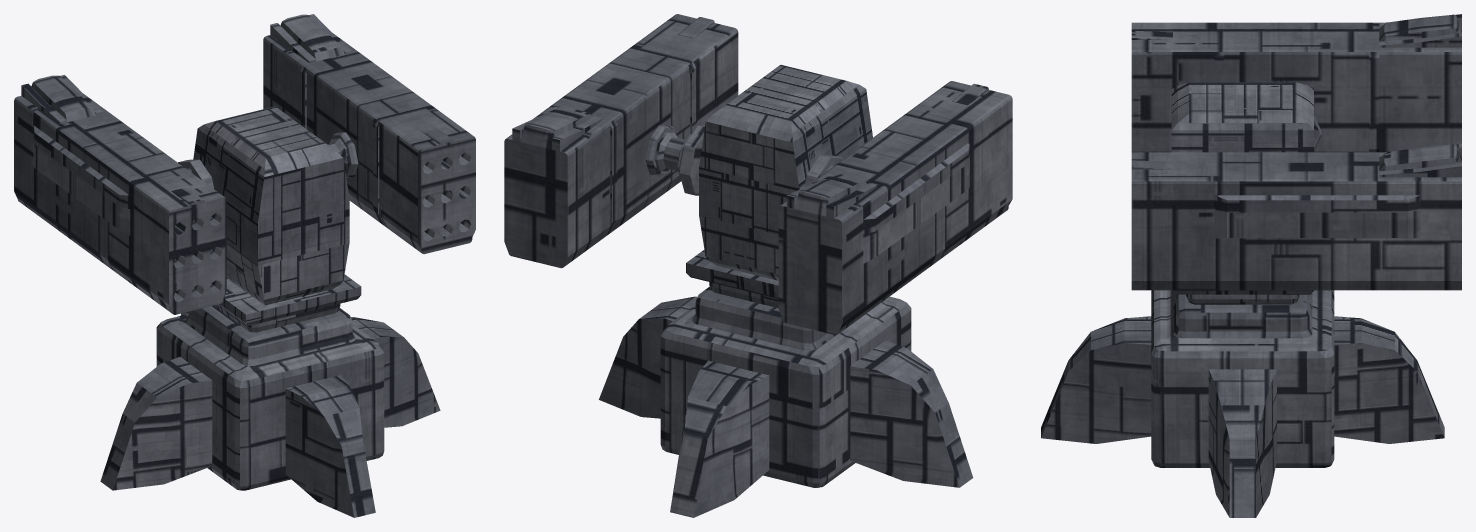
File: Turret_01.fbx
3 renders of one model, left to right at view 1: azimuth 30°, elevation 25°; view 2: azimuth 150°, elevation 25°; view 3: azimuth 270°, elevation 25°, orthographic. The views are drawn at different scales.
Parts seen in each view (by area): view 1: Turret_Weapon, Turret_Lower, Turret_Upper; view 2: Turret_Weapon, Turret_Lower, Turret_Upper; view 3: Turret_Weapon, Turret_Lower, Turret_Upper.
Boxes of the visible parts, x1,y1,x2,y2 form: Turret_Weapon: [14, 14, 475, 314]; Turret_Lower: [100, 305, 440, 517]; Turret_Upper: [193, 106, 361, 332]; Turret_Weapon: [504, 14, 1012, 334]; Turret_Lower: [599, 287, 973, 517]; Turret_Upper: [686, 65, 872, 308]; Turret_Weapon: [1131, 14, 1461, 290]; Turret_Lower: [1041, 290, 1444, 517]; Turret_Upper: [1171, 82, 1313, 304].
Bounding box in the file's own units: 161 × 153 × 168.
